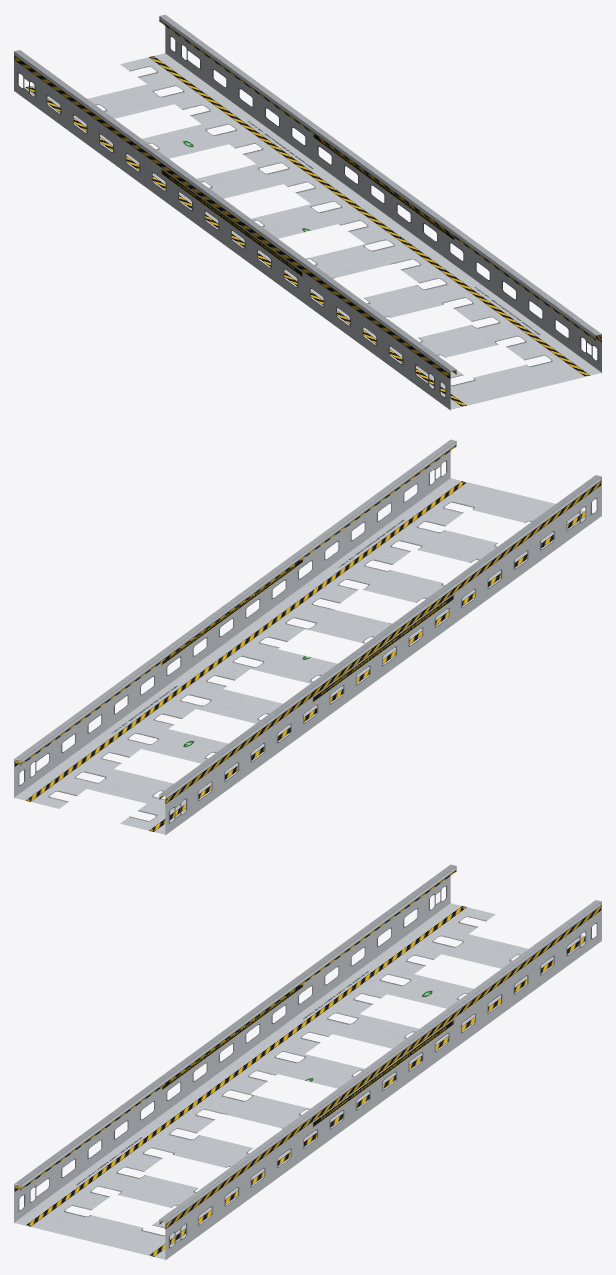
The model's file is SEC_Cable_Tray_Straight.fbx.
The picture shows the model from 3 angles, top to bottom: view 1: azimuth 30°, elevation 25°; view 2: azimuth 150°, elevation 25°; view 3: azimuth 330°, elevation 25°; orthographic projection.
Parts seen in each view (by area): view 1: Tray_Base, Side_Wall_Left, Side_Wall_Right; view 2: Tray_Base, Side_Wall_Left, Side_Wall_Right; view 3: Tray_Base, Side_Wall_Right, Side_Wall_Left.
Boxes of the visible parts, x1,y1,x2,y2 form: Tray_Base: (22,53,601,409); Side_Wall_Left: (14,50,456,410); Side_Wall_Right: (159,14,601,373); Tray_Base: (14,478,593,834); Side_Wall_Left: (159,475,601,835); Side_Wall_Right: (14,439,456,798); Tray_Base: (14,903,593,1259); Side_Wall_Right: (159,900,601,1260); Side_Wall_Left: (14,864,456,1223).
Bounding box in the file's own units: 20 × 5 × 100.
Materials: 1 (1 with a texture image).
